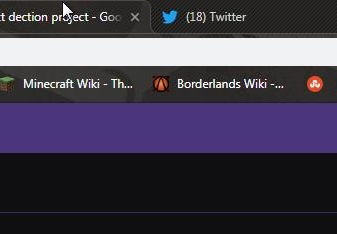cursor: (60, 1, 74, 21)
